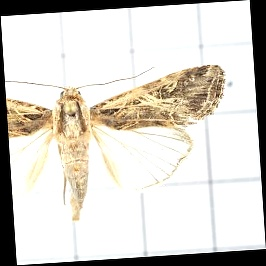Spodoptera litura: (9, 68, 231, 219)
